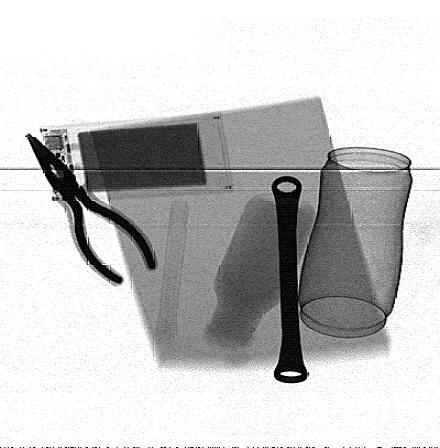Pliers: (24, 133, 160, 286)
Powerbank: (40, 114, 234, 200)
Wrench: (273, 174, 307, 383)
